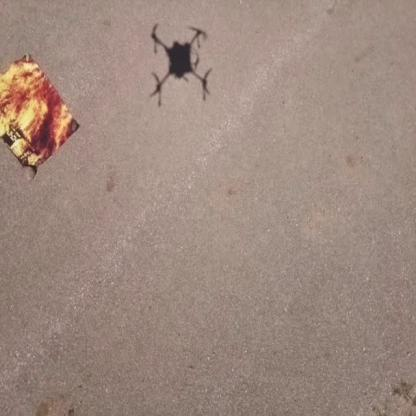fire-poster: (0, 51, 80, 178)
